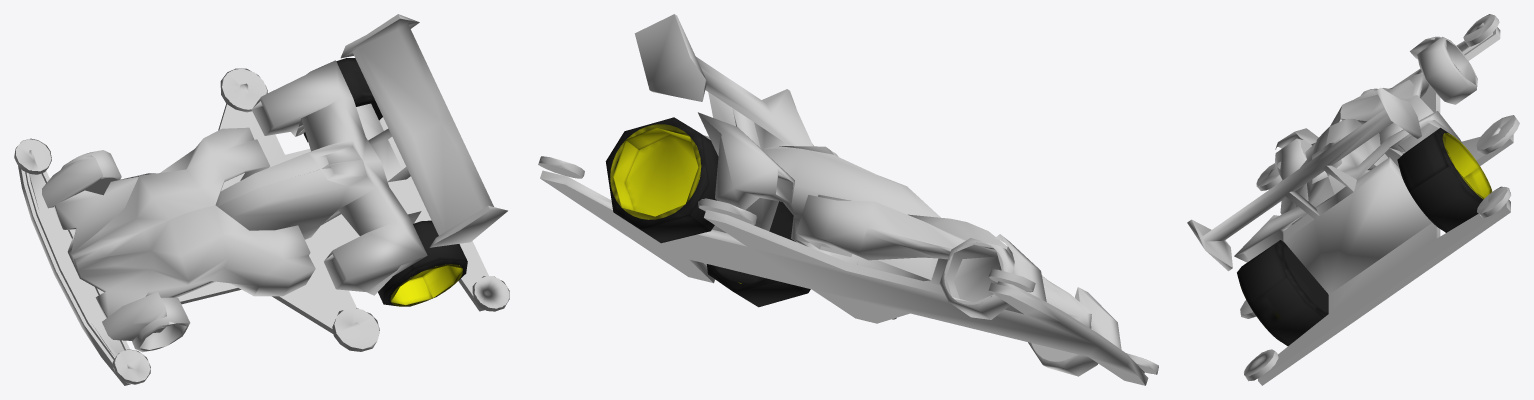
Rendered from ref_toycar.fbx.
3 renders of one model, left to right at view 1: azimuth 30°, elevation 25°; view 2: azimuth 150°, elevation 25°; view 3: azimuth 270°, elevation 25°, orthographic. The views are drawn at different scales.
Visible parts, largest first — view 1: ref_toycar_part1, ref_toycar_part2, ref_toycar_part0; view 2: ref_toycar_part1, ref_toycar_part2, ref_toycar_part0; view 3: ref_toycar_part1, ref_toycar_part2, ref_toycar_part0.
Boxes of the visible parts, left/top/right/bottom form: ref_toycar_part1: left=14, top=14, right=509, bottom=385; ref_toycar_part2: left=303, top=58, right=467, bottom=306; ref_toycar_part0: left=61, top=150, right=190, bottom=352; ref_toycar_part1: left=538, top=14, right=1158, bottom=385; ref_toycar_part2: left=605, top=117, right=810, bottom=307; ref_toycar_part0: left=939, top=238, right=1098, bottom=376; ref_toycar_part1: left=1187, top=14, right=1519, bottom=385; ref_toycar_part2: left=1237, top=127, right=1492, bottom=346; ref_toycar_part0: left=1275, top=36, right=1477, bottom=179.
Bounding box in the file's own units: 100 × 64.43 × 69.77.
